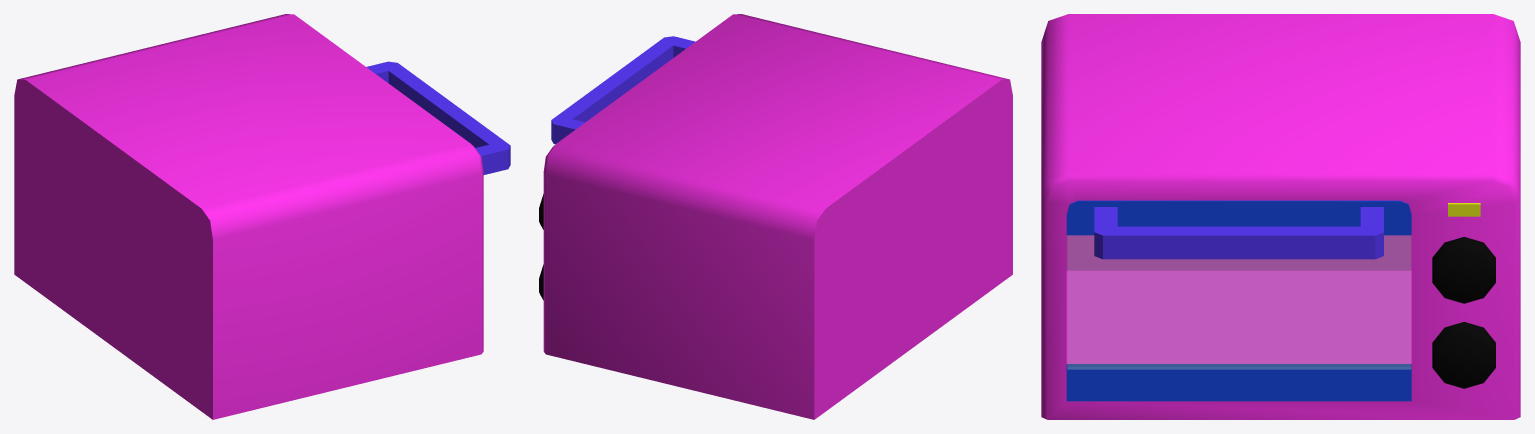
Rendered from Bep nuong banh quy.FBX.
3 views of the same model, side by side, from view 1: azimuth 30°, elevation 25°; view 2: azimuth 150°, elevation 25°; view 3: azimuth 270°, elevation 25° (orthographic). The views are drawn at different scales.
Parts seen in each view (by area): view 1: Box1266; view 2: Box1266; view 3: Box1266.
Part boxes in pixels (x1=…): Box1266: x1=14, y1=14, x2=510, y2=419; Box1266: x1=539, y1=14, x2=1012, y2=419; Box1266: x1=1041, y1=14, x2=1520, y2=419.
Size of the model in its own units: 2.12 by 1.27 by 2.26.
